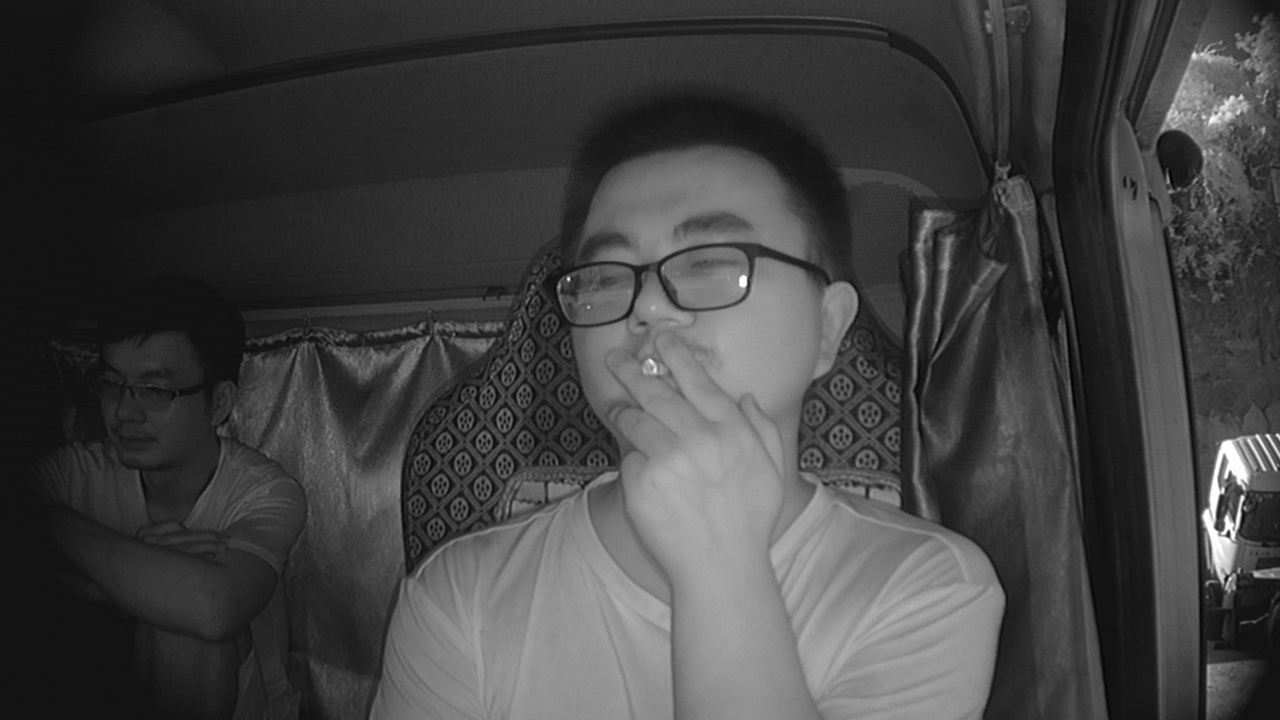hand: (602, 341, 786, 546)
